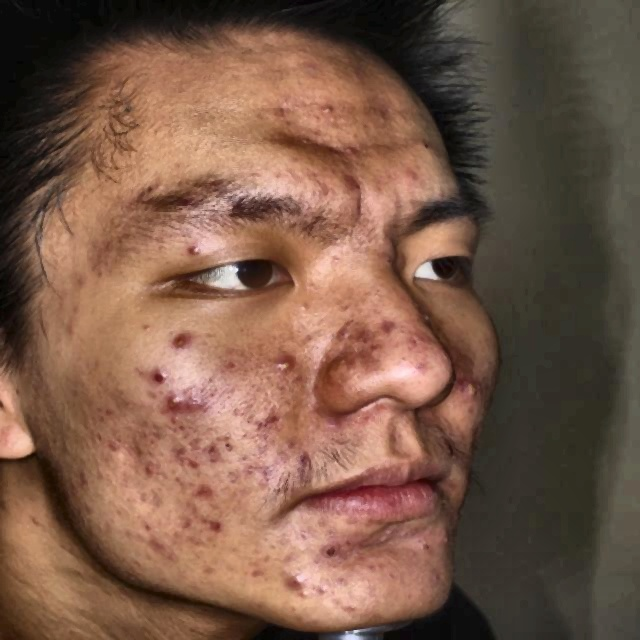papule: (251, 350, 303, 379), (388, 166, 432, 191), (145, 527, 180, 556), (362, 313, 398, 339), (181, 386, 207, 420), (130, 451, 158, 482), (167, 327, 191, 360), (398, 330, 430, 354), (191, 432, 218, 460), (317, 97, 343, 126), (246, 408, 276, 431), (241, 461, 270, 484), (290, 442, 310, 475), (283, 567, 303, 600), (410, 138, 437, 162), (454, 377, 481, 400), (197, 475, 215, 508), (159, 390, 177, 422), (317, 540, 339, 566), (198, 515, 222, 536), (331, 322, 355, 343), (316, 582, 334, 608), (139, 367, 163, 386), (178, 456, 198, 478), (342, 172, 353, 202)
